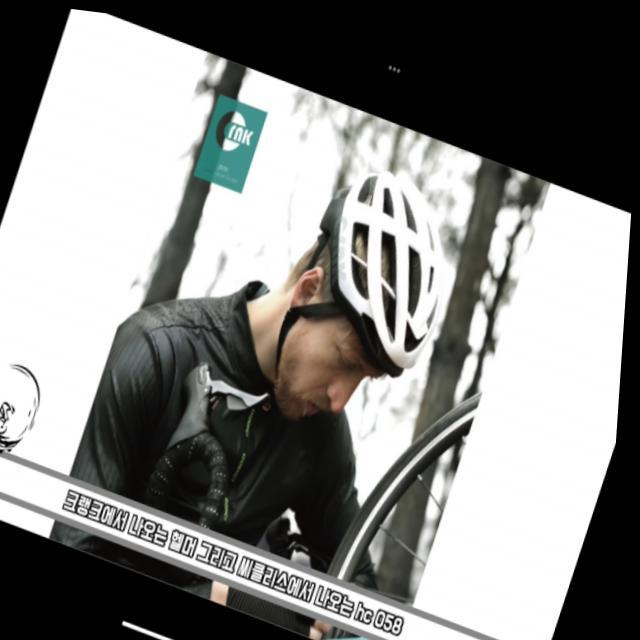Helmet: (262, 156, 435, 420)
